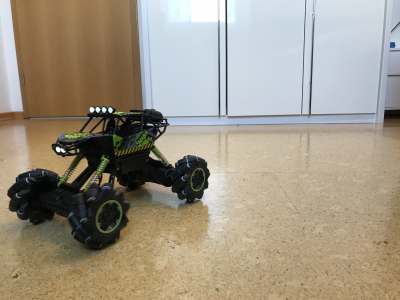remote control car: (7, 102, 212, 251)
